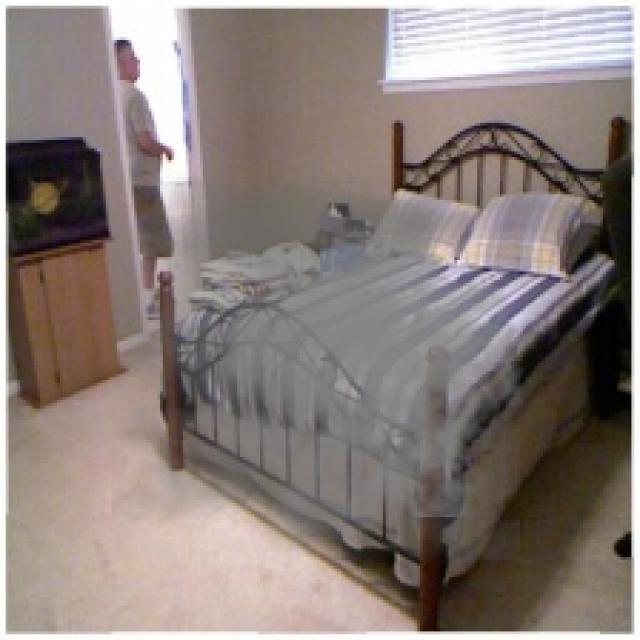smoke: (111, 171, 534, 560)
